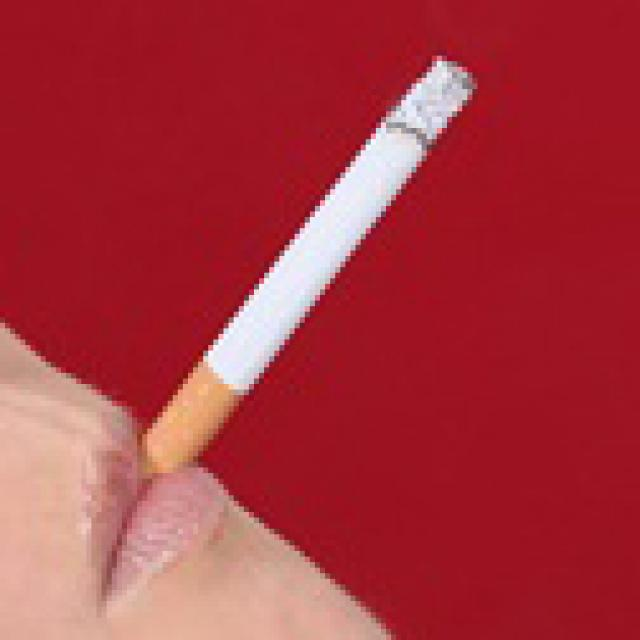smoking: (143, 50, 477, 477)
